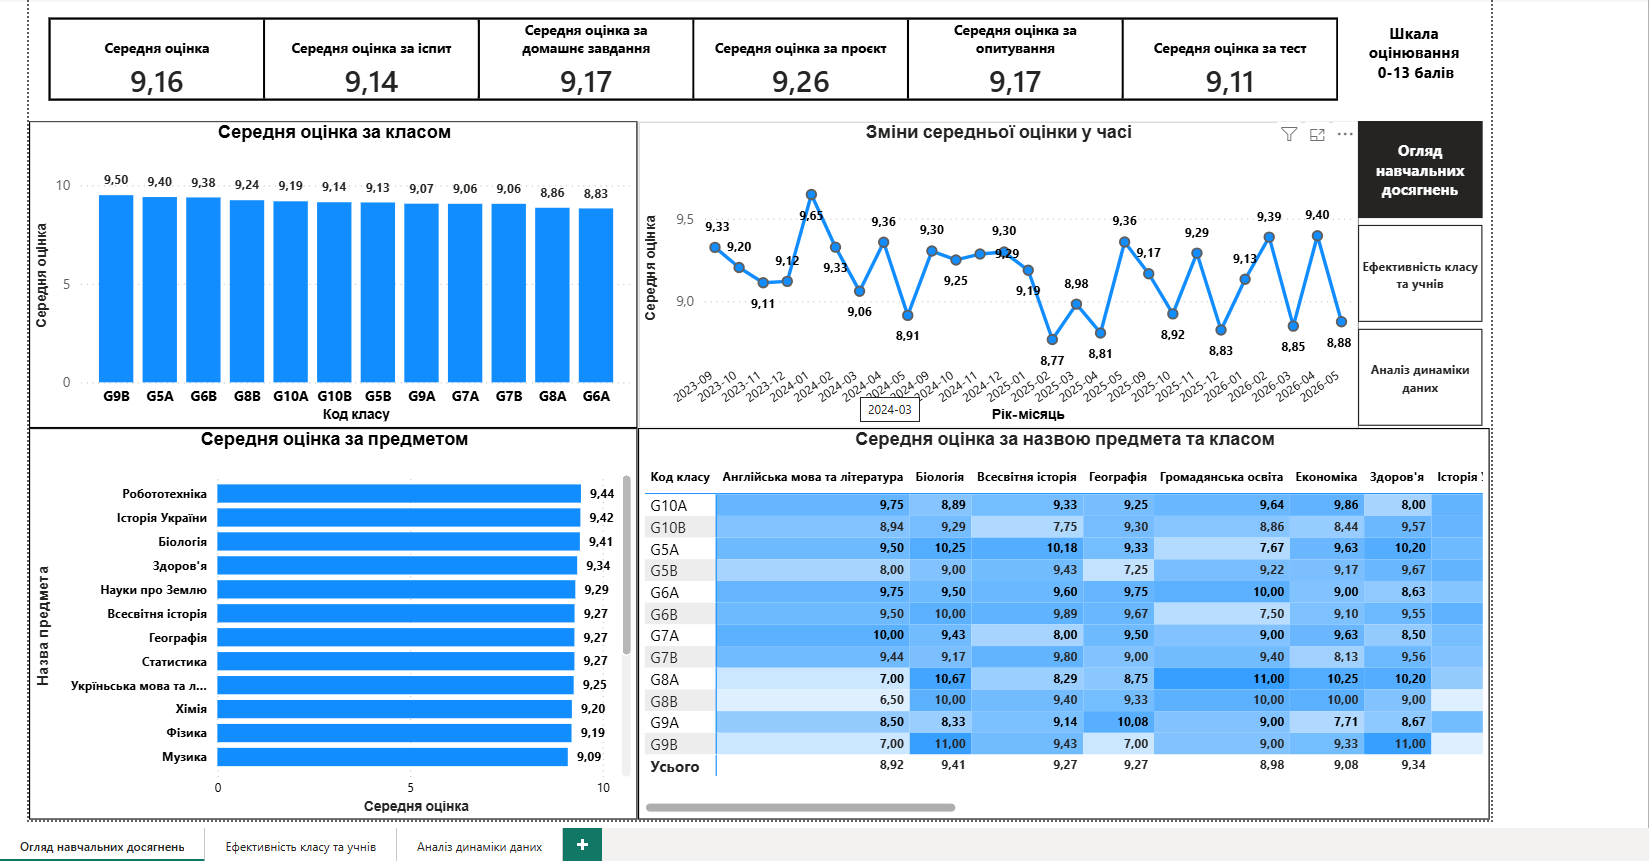

What the dashboard file says about the page in this screenshot:
{"tool":"powerbi","page":{"name":"Огляд навчальних досягнень","canvas":[1280,720],"ordinal":0},"visuals":[{"type":"clusteredBarChart","title":"Середня оцінка за предметом","fields":{"Category":["subjects.subject_name"],"Y":["Avg(grades.grade_value)"]},"box":[0,376.6,533.4,343.4],"z":0},{"type":"clusteredColumnChart","title":"Середня оцінка за класом","fields":{"Y":["Avg(grades.grade_value)"],"Category":["classes.class_code"]},"box":[0,107.7,533.4,268.9],"z":1000},{"type":"lineChart","title":"Зміни середньої оцінки у часі","fields":{"Y":["Avg(grades.grade_value)"],"Category":["Календарь.Year-Month"]},"box":[533.4,107.7,630.7,268.9],"z":2000},{"type":"pivotTable","title":"Середня оцінка за назвою предмета та класом","fields":{"Values":["Avg(grades.grade_value)"],"Rows":["classes.class_code"],"Columns":["subjects.subject_name"]},"box":[533.4,376.6,746.3,343.4],"z":3000},{"type":"pageNavigator","box":[1164.1,107.7,109.5,268.9],"z":4000},{"type":"cardVisual","fields":{"Data":["_Measures.Average_Grade","_Measures.Exam_Average_Grade","_Measures.Homework_Average_Grade","_Measures.Project_Average_Grade","_Measures.Quiz_Average_Grade","_Measures.Test_Average_Grade"]},"box":[0,0,1164.1,107.7],"z":5000},{"type":"textbox","box":[1146.6,16.6,133.1,73.6],"z":6000}]}

Visuals, with their boxes on the page's 1280x720 design canvas (x1, y1, x2, y2). These are canvas units, not pixel positions in the 1649x861 screenshot, which may show the page scaled, cropped or inside an application window:
"Середня оцінка за предметом" clusteredBarChart: box=[0, 377, 533, 720]
"Середня оцінка за класом" clusteredColumnChart: box=[0, 108, 533, 377]
"Зміни середньої оцінки у часі" lineChart: box=[533, 108, 1164, 377]
"Середня оцінка за назвою предмета та класом" pivotTable: box=[533, 377, 1280, 720]
pageNavigator: box=[1164, 108, 1274, 377]
cardVisual - _Measures.Average_Grade x _Measures.Exam_Average_Grade: box=[0, 0, 1164, 108]
textbox: box=[1147, 17, 1280, 90]
